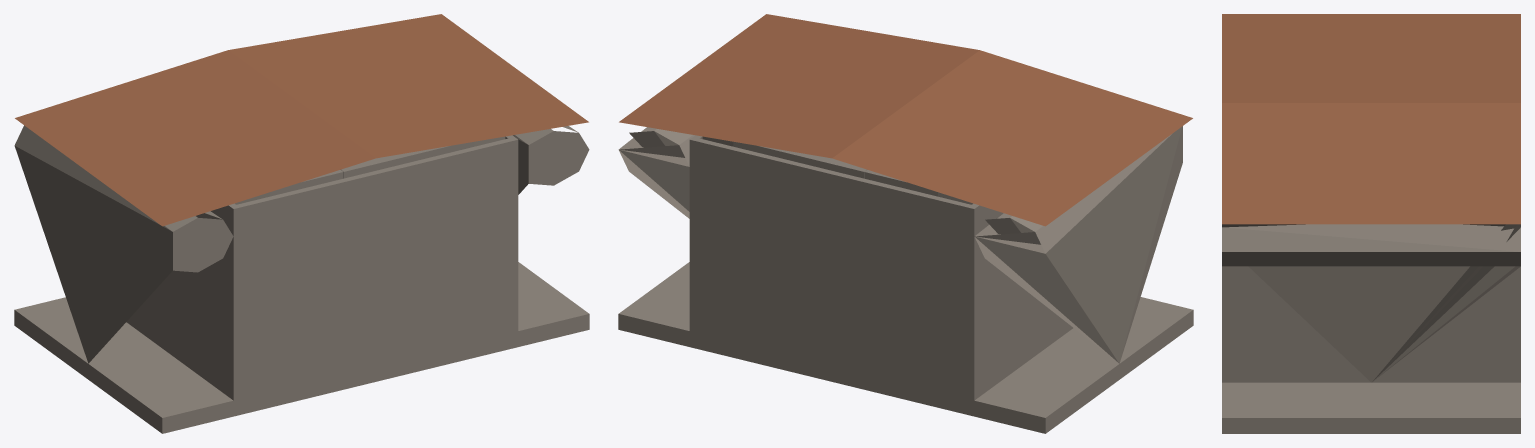
File: adaptive_wide_colored.glb
3 views of the same model, side by side, from view 1: azimuth 30°, elevation 25°; view 2: azimuth 150°, elevation 25°; view 3: azimuth 270°, elevation 25° (orthographic).
Parts seen in each view (by area): view 1: world; view 2: world; view 3: world.
Part boxes in pixels (<box>): world: <box>14,14,589,433</box>; world: <box>618,14,1193,433</box>; world: <box>1222,14,1520,433</box>.
Size of the model in its own units: 20 by 10 by 12.
